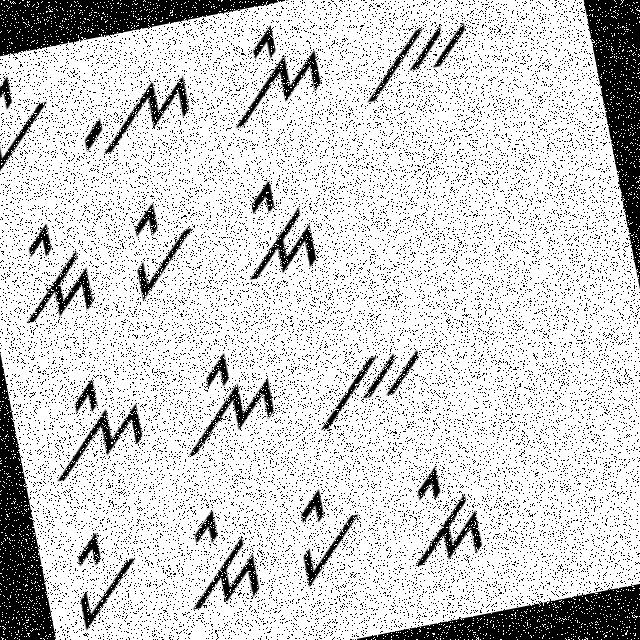di: (2, 214, 111, 334), (168, 500, 270, 622), (392, 454, 496, 572), (227, 170, 326, 288)
ni: (31, 364, 158, 495), (169, 339, 288, 465), (218, 17, 332, 136)
pi: (276, 480, 378, 595), (114, 191, 208, 306), (56, 522, 150, 636), (0, 65, 64, 178)
